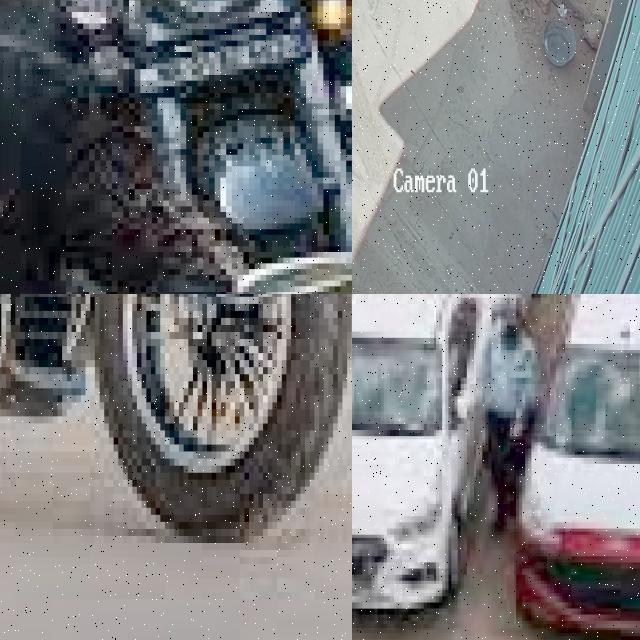bike: (0, 0, 352, 294), (0, 294, 352, 557)
car: (514, 294, 640, 640), (352, 294, 454, 640)
